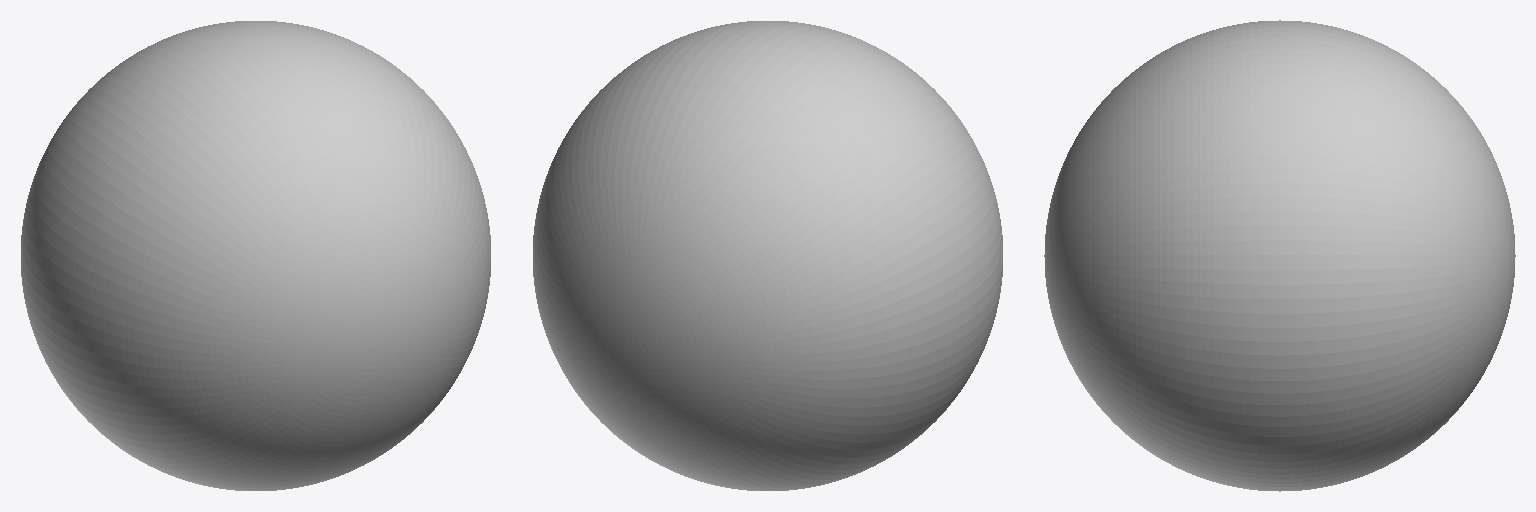
File: Saturn.obj
The picture shows the model from 3 angles: view 1: azimuth 30°, elevation 25°; view 2: azimuth 150°, elevation 25°; view 3: azimuth 270°, elevation 25°; orthographic projection.
Parts seen in each view (by area): view 1: node_id73; view 2: node_id73; view 3: node_id73.
Part boxes in pixels (left/top/right/bottom): node_id73: left=21, top=21, right=490, bottom=490; node_id73: left=533, top=21, right=1002, bottom=490; node_id73: left=1044, top=20, right=1515, bottom=491.
Size of the model in its own units: 0.0742 by 0.0742 by 0.0742.